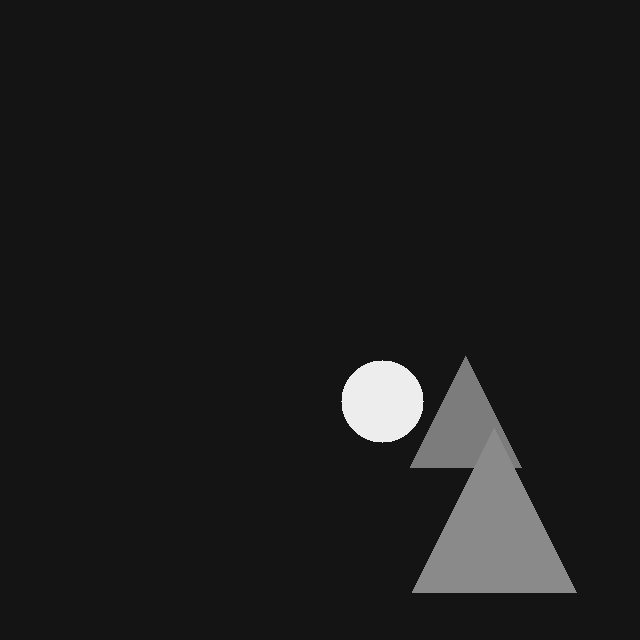circle: (341, 360, 423, 442)
triangle: (412, 428, 576, 592), (410, 356, 521, 467)
